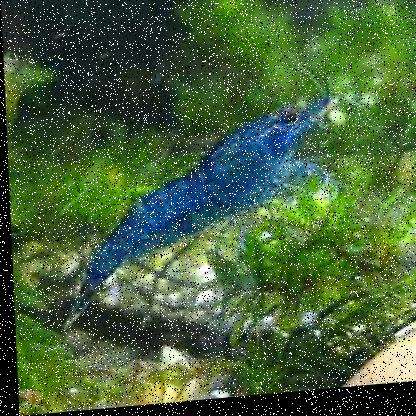shrimp: (47, 93, 346, 325)
